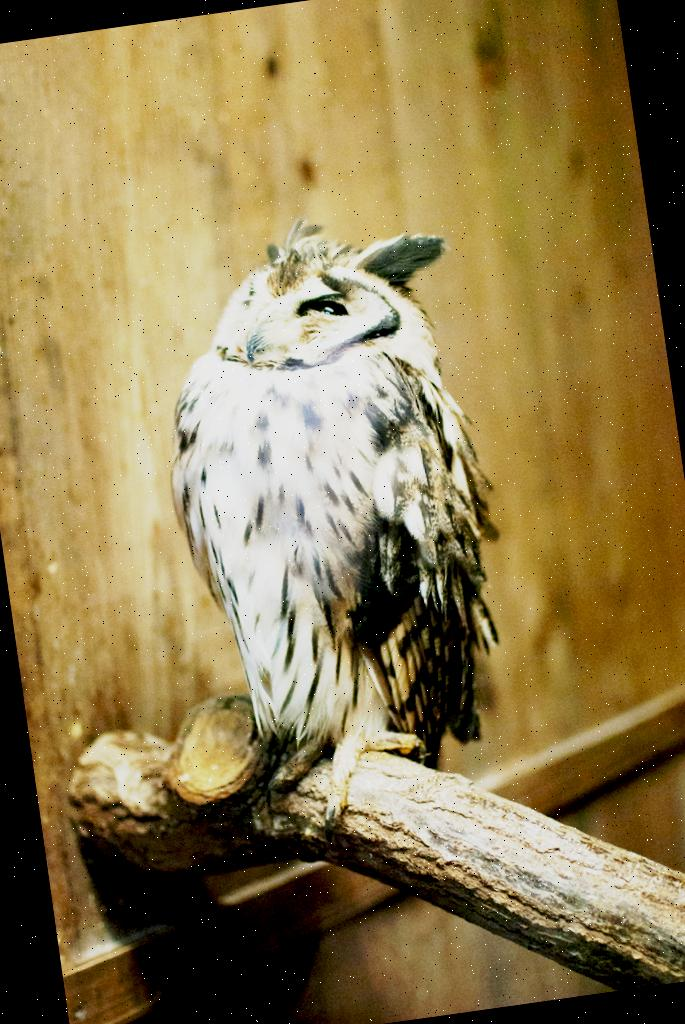Owl: (140, 204, 542, 833)
